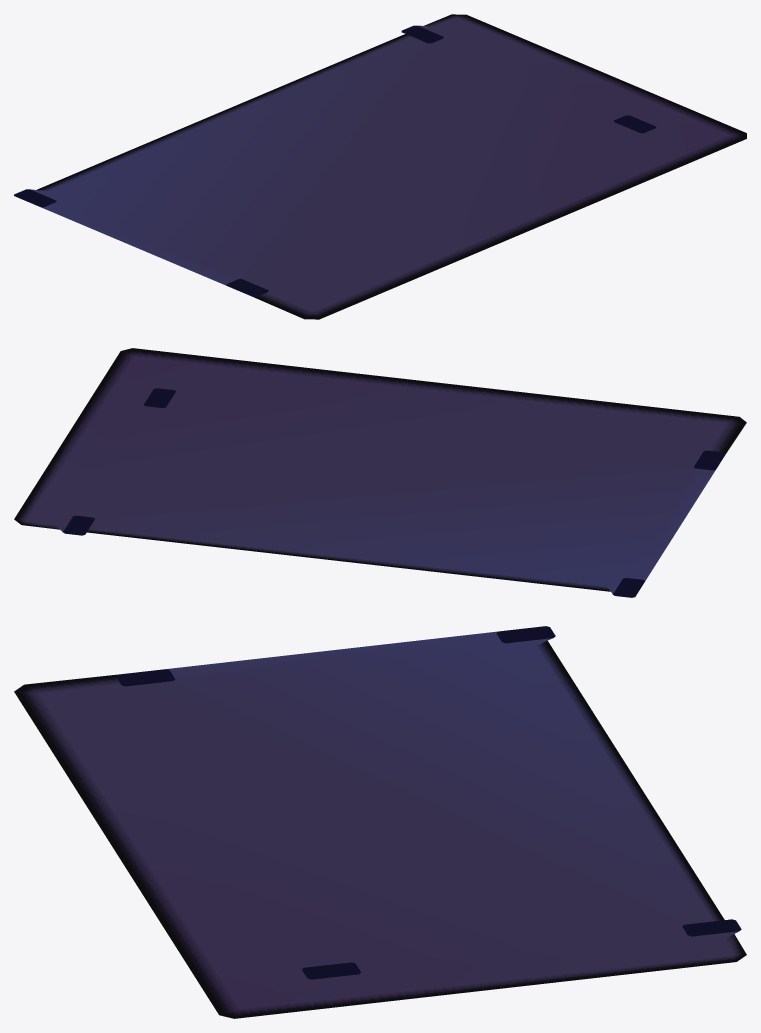
3 renders of one model, top to bottom at view 1: azimuth 30°, elevation 25°; view 2: azimuth 150°, elevation 25°; view 3: azimuth 270°, elevation 25°, orthographic. The views are drawn at different scales.
Parts seen in each view (by area): view 1: Joint_0_Object_0; view 2: Joint_0_Object_0; view 3: Joint_0_Object_0.
Boxes of the visible parts, x1=… form: Joint_0_Object_0: x1=14, y1=14, x2=746, y2=319; Joint_0_Object_0: x1=14, y1=348, x2=746, y2=597; Joint_0_Object_0: x1=14, y1=626, x2=746, y2=1018.
Size of the model in its own units: 1876 by 0 by 1480.
Materials: 1 (1 with a texture image).
